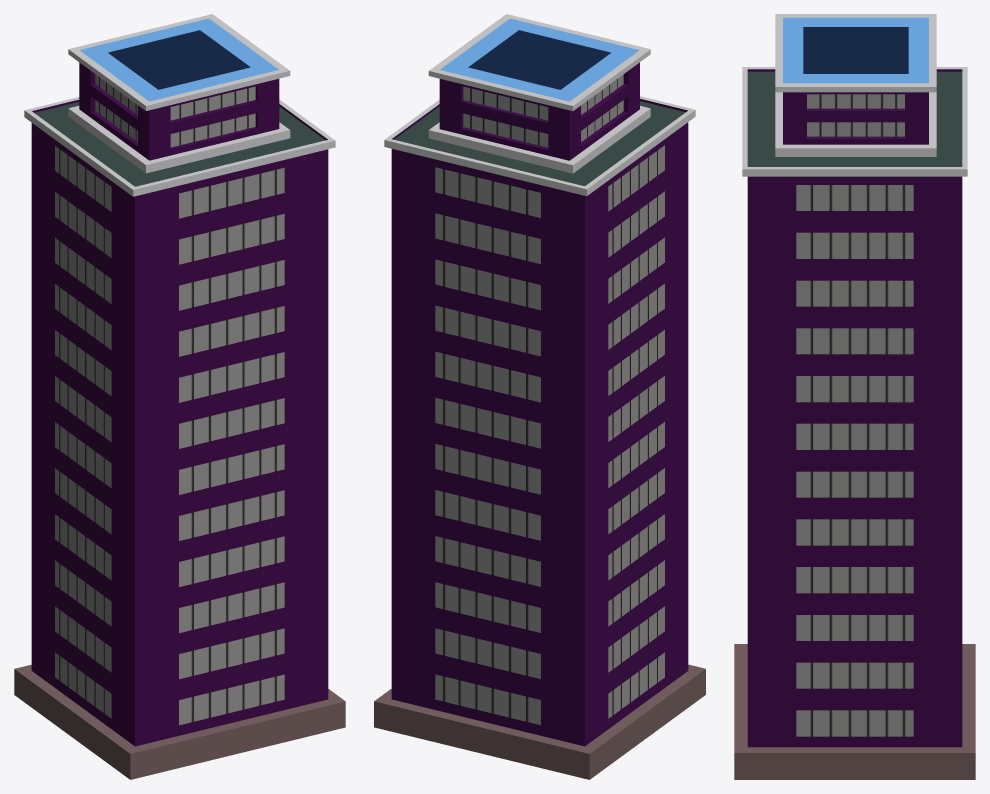
The model's file is building31d.FBX.
3 renders of one model, left to right at view 1: azimuth 30°, elevation 25°; view 2: azimuth 150°, elevation 25°; view 3: azimuth 270°, elevation 25°, orthographic. The views are drawn at different scales.
Parts seen in each view (by area): view 1: building31d; view 2: building31d; view 3: building31d.
Part boxes in pixels (bbox=[...]): building31d: bbox=[14, 14, 345, 779]; building31d: bbox=[374, 14, 705, 779]; building31d: bbox=[734, 14, 975, 779].
Bounding box in the file's own units: 17.44 × 50.37 × 16.3.
